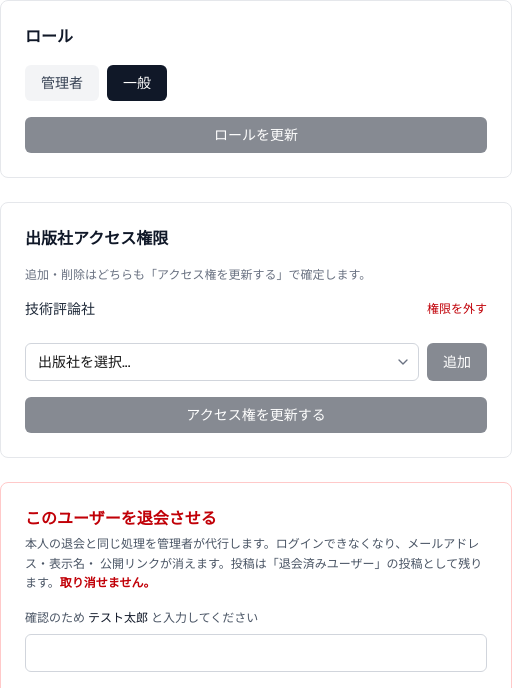
Scenario: AdminUserEditor › 出版社アクセスの削除 › 「権限を外す」を押しただけでは送らず、印だけが付く
This screenshot has width=529, height=688.
Click the button "権限を外す" at [457, 309], box [427,301,487,317]
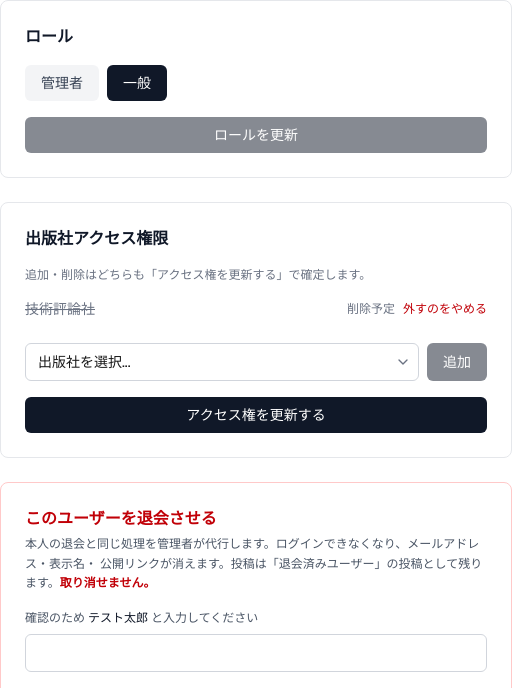
Expected: the text "技術評論社" is shown, [25,299,95,319]
Result: the text "削除予定" is shown at [347,301,395,317]
